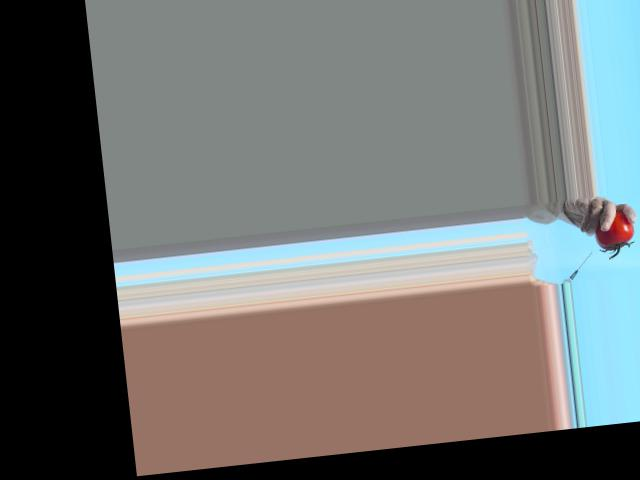tomato: (593, 208, 636, 251)
